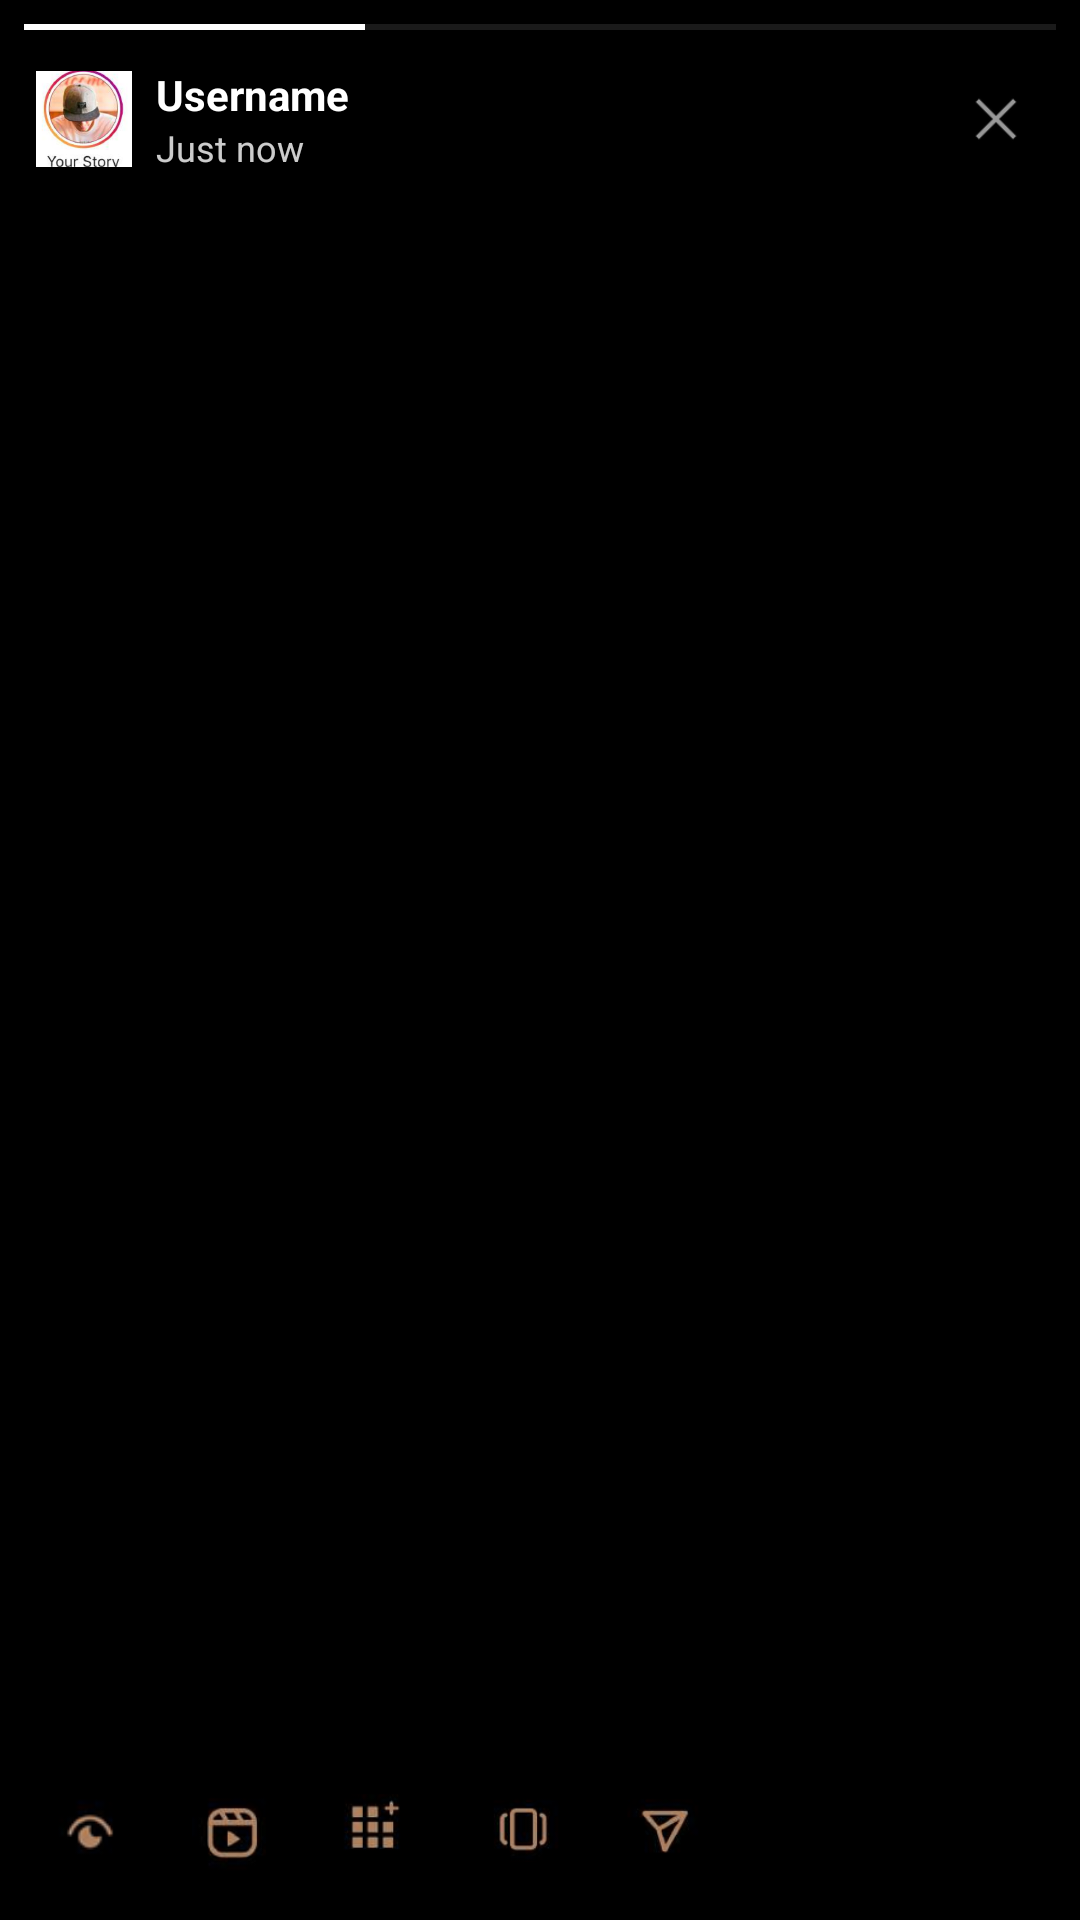

Icons on this 1080 x 1920 Android screen, each with the point to tap as (x,y):
close clear cancel: (996,119)
